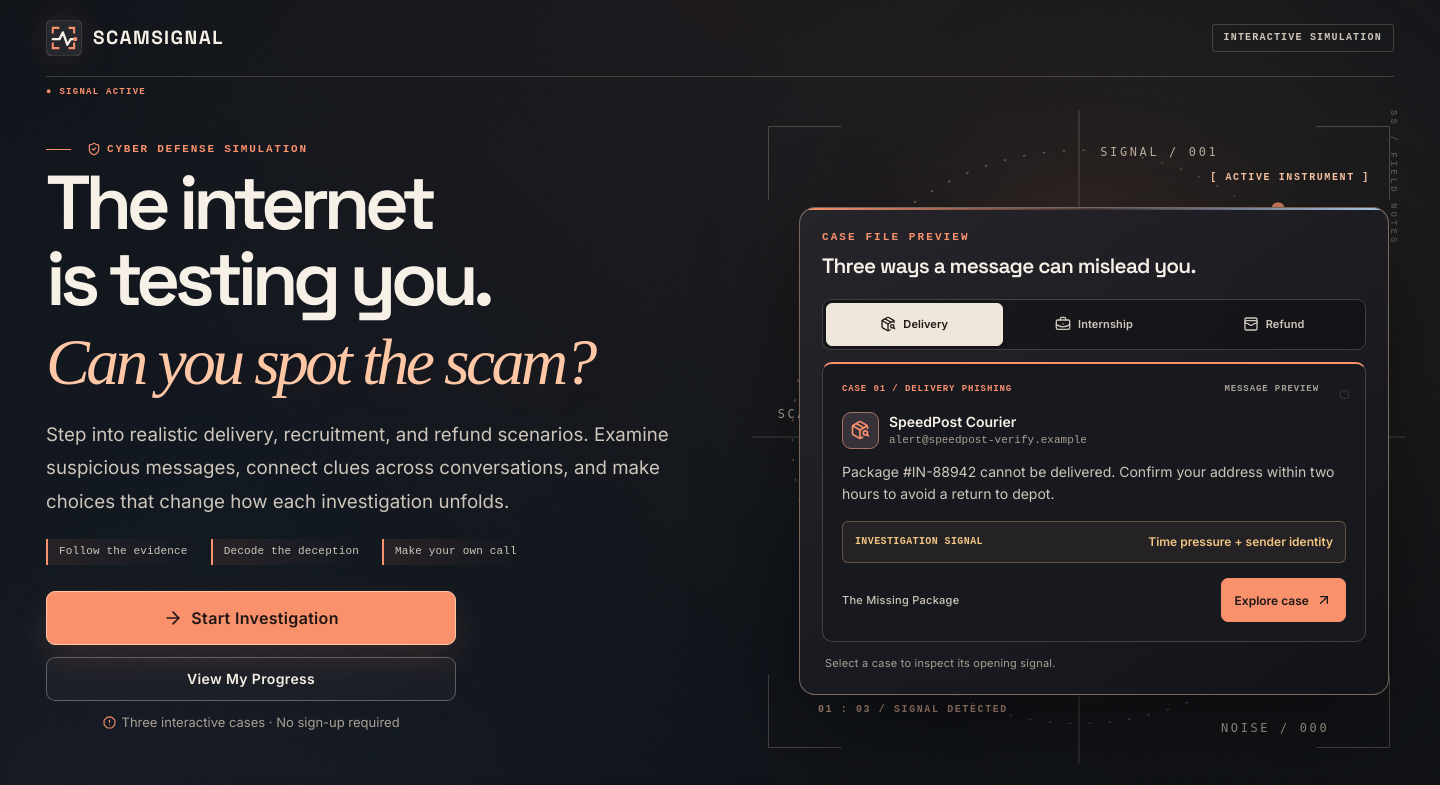
Test case: Batch 4A route regression › opens the dashboard from Home and returns to mission selection
Click the button "View My Progress" at (251, 679), box [46,657,456,701]
(page scrolled)
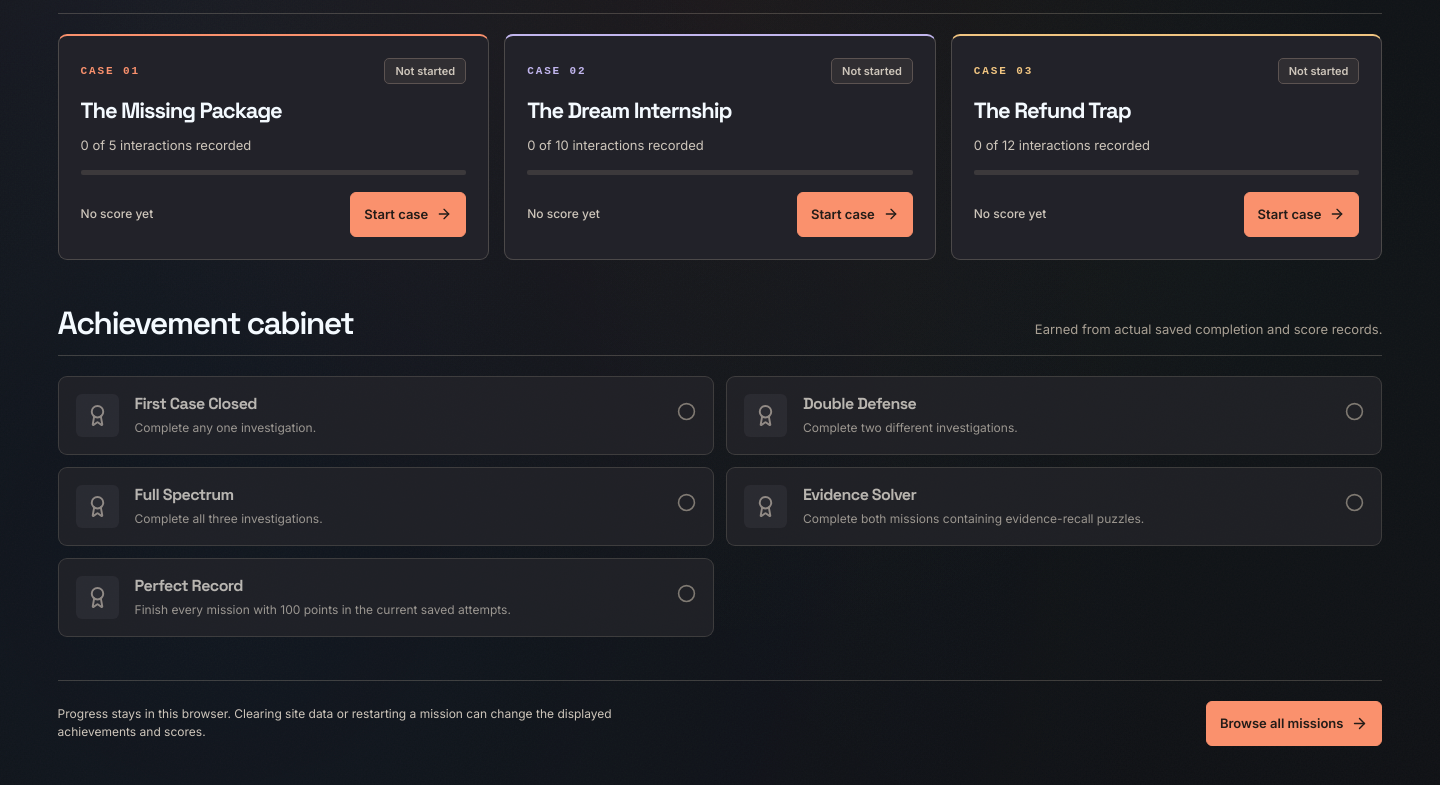
Click the button "Browse all missions" at (1294, 723), box [1206,701,1382,746]
(page scrolled)
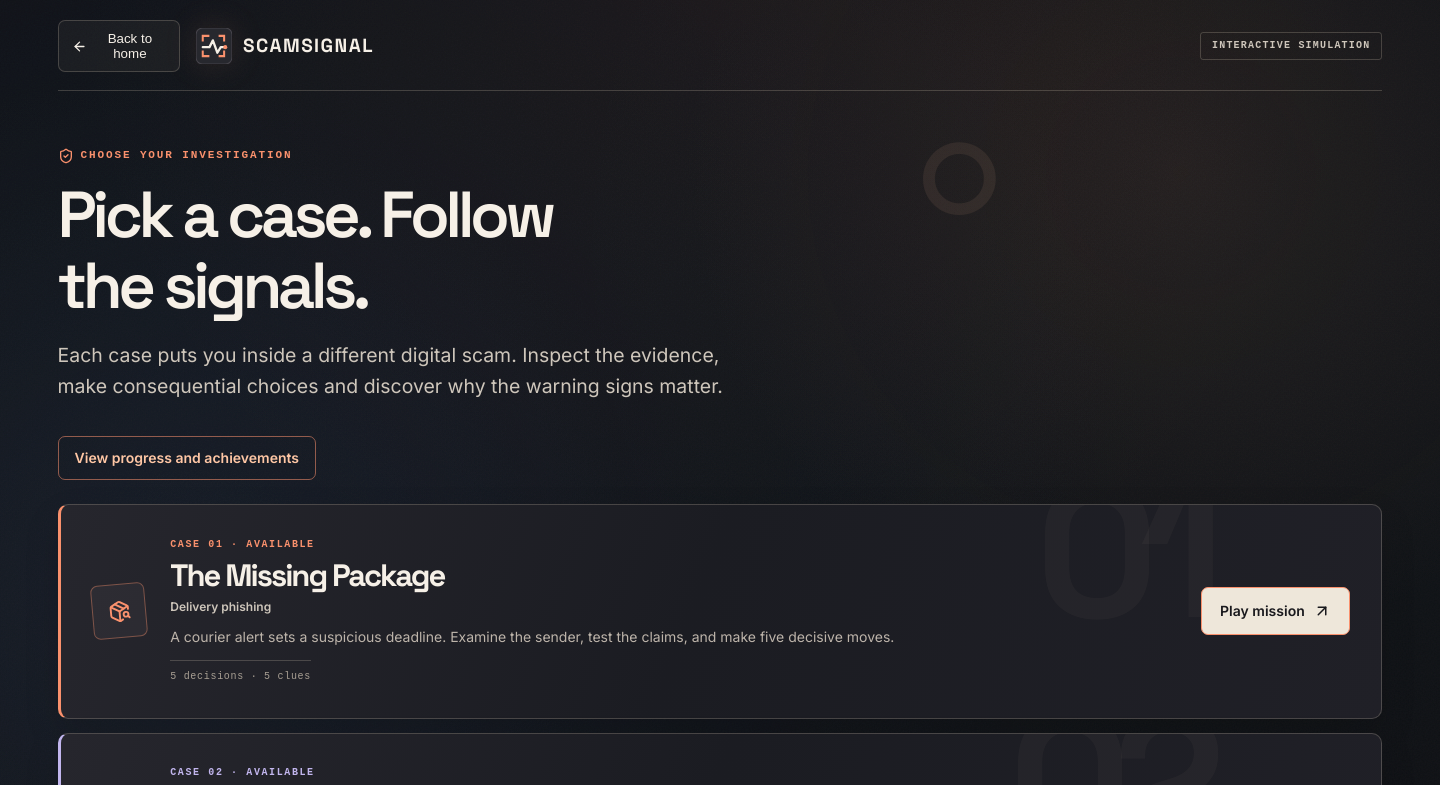
Now the heading "Pick a case. Follow the signals." is shown, box [58,173,552,327]
